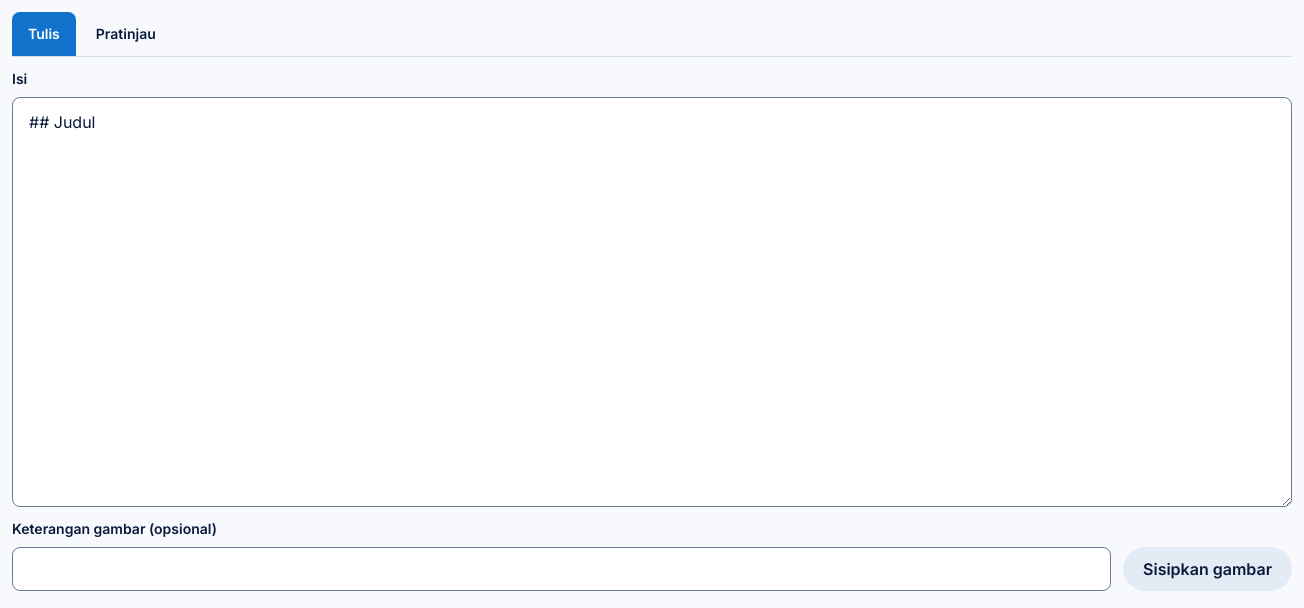
Test case: MarkdownEditor › submits the text under its field name and keeps it when switching to the preview and back
The width and height of the screenshot is (1304, 608).
Step 1. Click the tab "Pratinjau" → click(126, 34), box [80,12,172,56]
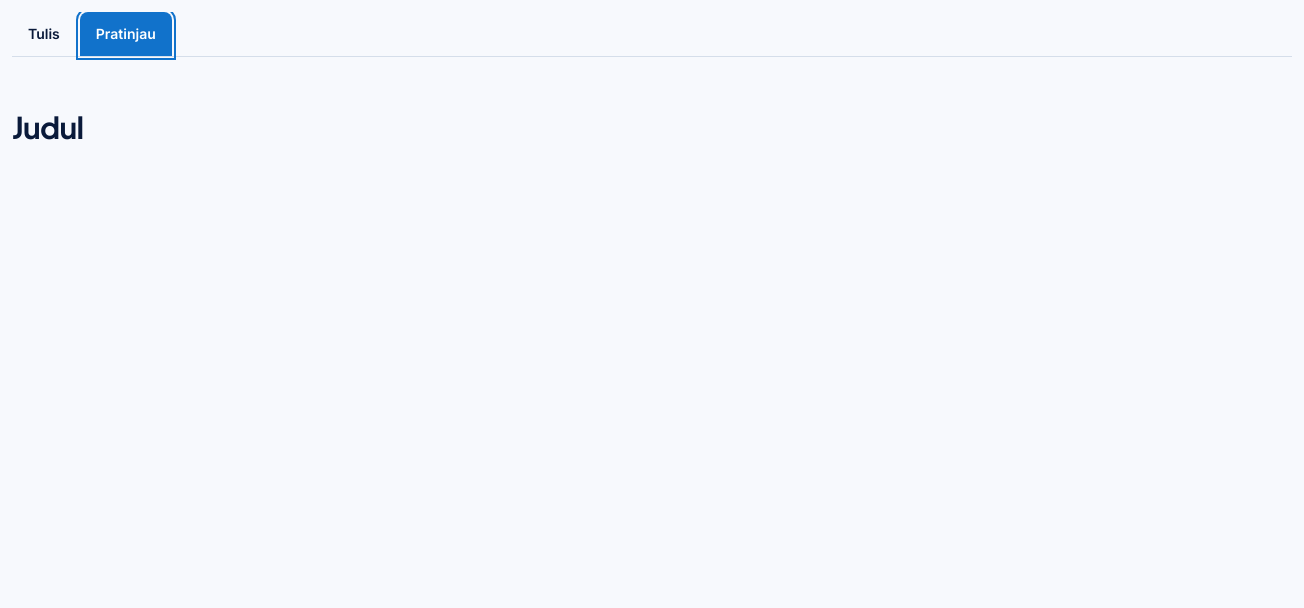
Expected: the heading "Judul" is shown, [12,108,83,146]
Step 2. Click the tab "Tulis" → click(44, 34), box [12,12,76,56]
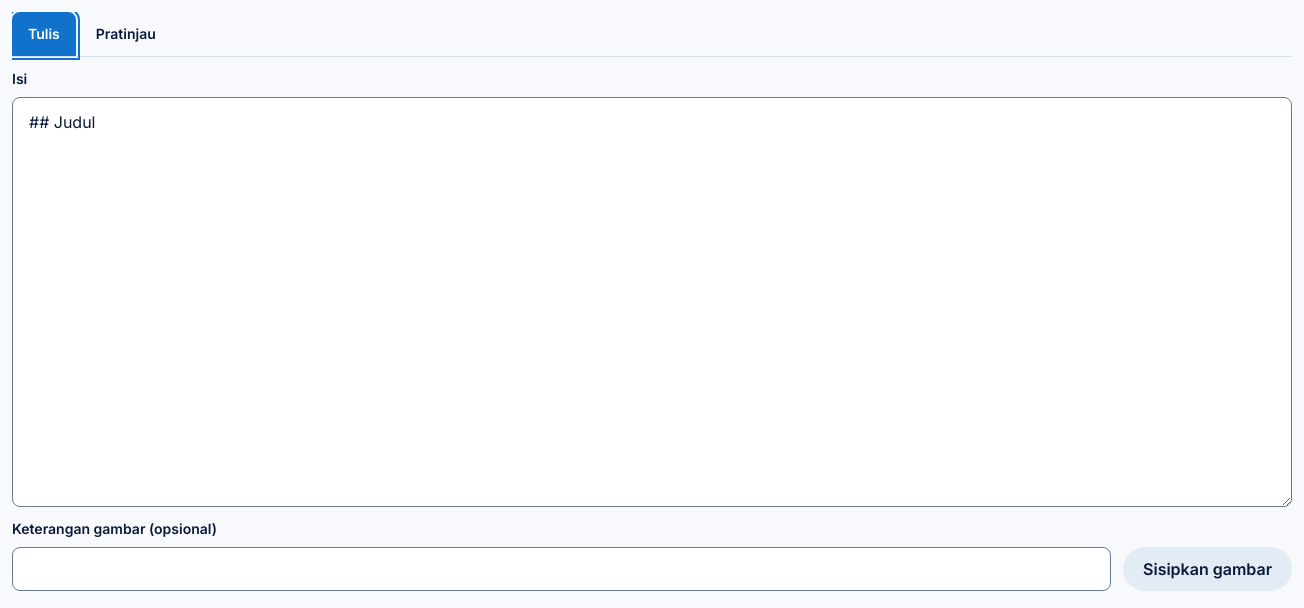
Expected: the text box labelled "Isi" holds "## Judul"
